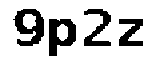2: (84, 6, 112, 51)
9: (12, 6, 44, 48)
p: (48, 16, 78, 60)
z: (115, 17, 145, 51)
